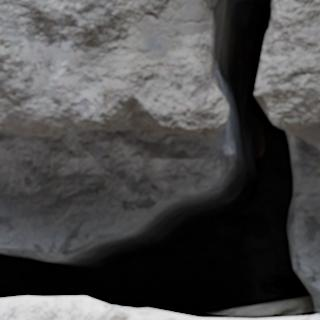brick: (0, 297, 204, 319), (276, 315, 319, 319)
broken_brick: (0, 0, 228, 140), (255, 0, 319, 143)
crack: (0, 0, 319, 319)
